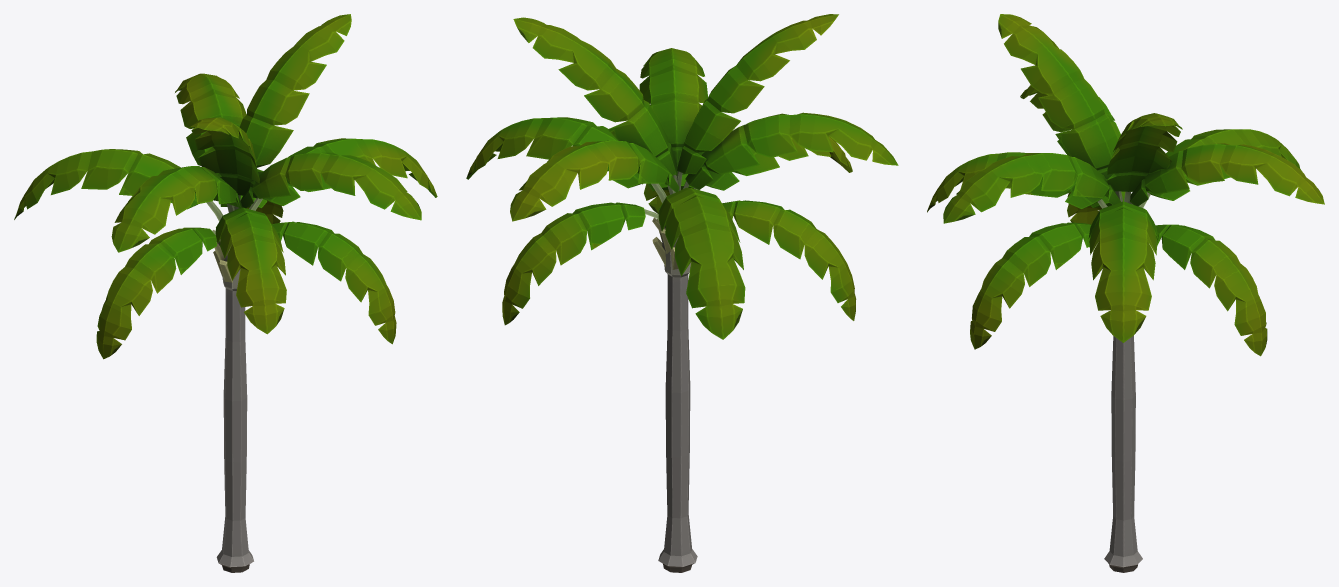
Rendered from 04709402-fbef-43af-bf70-82c2d985f038.glb.
3 views of the same model, side by side, from view 1: azimuth 30°, elevation 25°; view 2: azimuth 150°, elevation 25°; view 3: azimuth 270°, elevation 25° (orthographic). The views are drawn at different scales.
Visible parts, largest first — view 1: QueenPalmTree_Mesh; view 2: QueenPalmTree_Mesh; view 3: QueenPalmTree_Mesh.
Boxes of the visible parts, x1,y1,x2,y2 form: QueenPalmTree_Mesh: (14,14,437,572); QueenPalmTree_Mesh: (466,14,898,572); QueenPalmTree_Mesh: (927,14,1324,572).
Size of the model in its own units: 10.7 by 14.17 by 10.06.
Materials: 1 (1 with a texture image).
